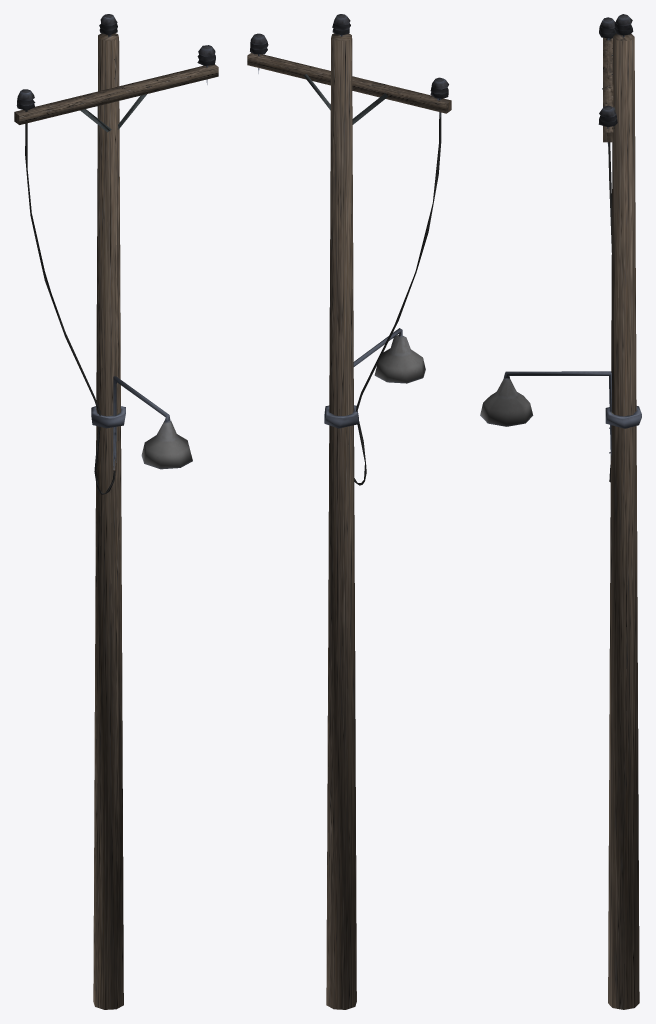
The model's file is pole_wood_b_lod_2.glb.
3 views of the same model, side by side, from view 1: azimuth 30°, elevation 25°; view 2: azimuth 150°, elevation 25°; view 3: azimuth 270°, elevation 25° (orthographic).
Parts seen in each view (by area): view 1: pole_wood_b_lod_2; view 2: pole_wood_b_lod_2; view 3: pole_wood_b_lod_2.
Part boxes in pixels (left/top/right/bottom): pole_wood_b_lod_2: left=14, top=14, right=218, bottom=1009; pole_wood_b_lod_2: left=247, top=14, right=451, bottom=1009; pole_wood_b_lod_2: left=480, top=14, right=641, bottom=1009.
Size of the model in its own units: 2.2 by 10.42 by 1.55.
Materials: 2 (2 with a texture image).
